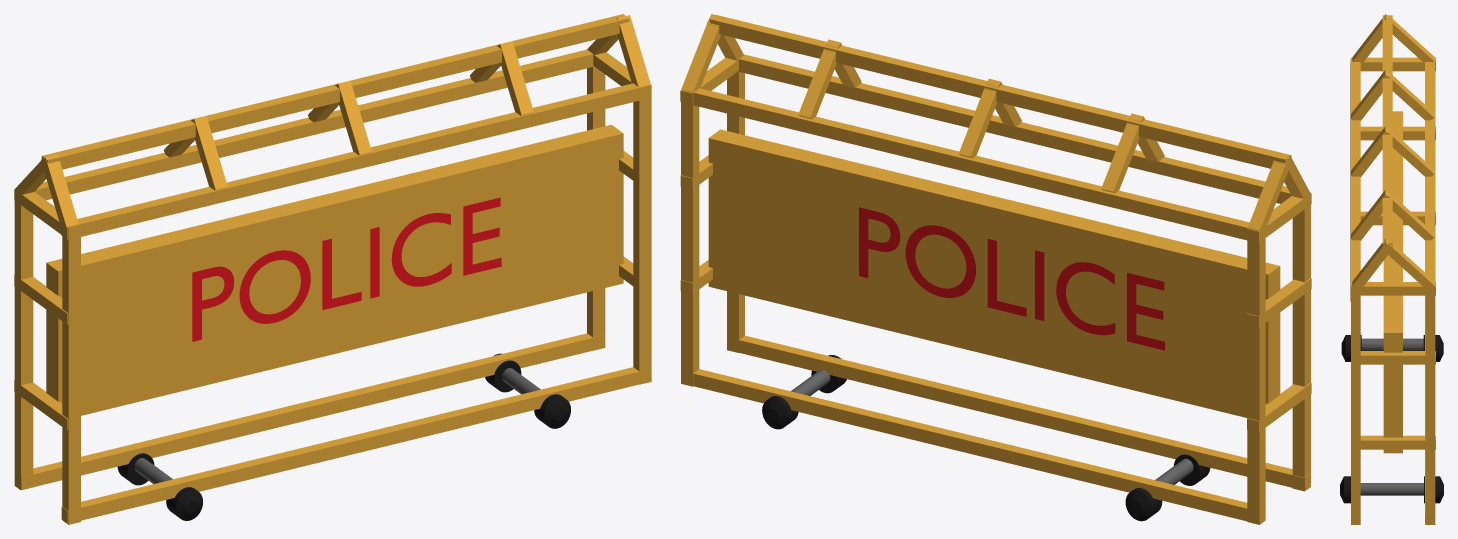
File: police barrier.fbx
3 renders of one model, left to right at view 1: azimuth 30°, elevation 25°; view 2: azimuth 150°, elevation 25°; view 3: azimuth 270°, elevation 25°, orthographic. The views are drawn at different scales.
Parts seen in each view (by area): view 1: Cube, Cube.006, Cube.014, Cube.007, Cube.013, Cube.015, Text, Cube.001, Cube.008, Cube.002, Cube.009, Cube.017 (+10 smaller); view 2: Cube, Cube.015, Cube.006, Cube.007, Cube.013, Cube.014, Text.001, Cube.002, Cube.009, Cube.001, Cube.008, Cube.018 (+10 smaller); view 3: Cube, Cube.009, Cube.008, Cube.013, Cube.015, Cube.014, Cube.010, Cube.023, Cube.025, Cylinder.001, Cube.003, Cube.011 (+19 smaller).
Part boxes in pixels (x1=…): Cube: x1=46, y1=124, x2=623, y2=415; Cube.006: x1=61, y1=367, x2=649, y2=523; Cube.014: x1=61, y1=83, x2=649, y2=239; Cube.007: x1=21, y1=333, x2=602, y2=489; Cube.013: x1=41, y1=14, x2=629, y2=169; Cube.015: x1=21, y1=49, x2=593, y2=206; Text: x1=192, y1=197, x2=501, y2=341; Cube.001: x1=62, y1=225, x2=80, y2=524; Cube.008: x1=633, y1=85, x2=651, y2=384; Cube.002: x1=14, y1=189, x2=33, y2=490; Cube.009: x1=587, y1=66, x2=605, y2=350; Cube.017: x1=191, y1=116, x2=227, y2=190; Cube: x1=708, y1=129, x2=1280, y2=417; Cube.015: x1=683, y1=88, x2=1259, y2=240; Cube.006: x1=739, y1=335, x2=1310, y2=490; Cube.007: x1=693, y1=369, x2=1247, y2=521; Cube.013: x1=709, y1=15, x2=1291, y2=168; Cube.014: x1=738, y1=54, x2=1310, y2=209; Text.001: x1=859, y1=207, x2=1164, y2=350; Cube.002: x1=1247, y1=227, x2=1265, y2=524; Cube.009: x1=681, y1=93, x2=699, y2=386; Cube.001: x1=1292, y1=206, x2=1310, y2=491; Cube.008: x1=727, y1=71, x2=744, y2=352; Cube.018: x1=958, y1=83, x2=998, y2=158; Cube: x1=1383, y1=111, x2=1402, y2=453; Cube.009: x1=1425, y1=286, x2=1435, y2=524; Cube.008: x1=1351, y1=286, x2=1360, y2=524; Cube.013: x1=1382, y1=15, x2=1392, y2=246; Cube.015: x1=1425, y1=62, x2=1434, y2=280; Cube.014: x1=1351, y1=57, x2=1360, y2=285; Cube.010: x1=1351, y1=282, x2=1435, y2=295; Cube.023: x1=1360, y1=435, x2=1435, y2=449; Cube.025: x1=1360, y1=351, x2=1435, y2=364; Cylinder.001: x1=1360, y1=483, x2=1423, y2=495; Cube.003: x1=1360, y1=57, x2=1435, y2=71; Cube.011: x1=1384, y1=244, x2=1434, y2=288.
Bounding box in the file's own units: 815 × 502 × 156.
